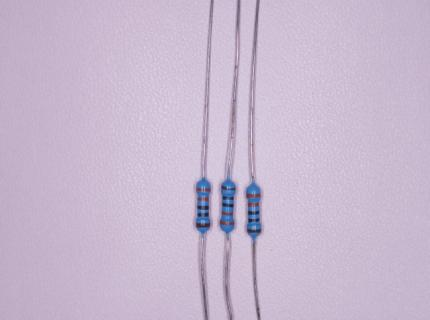Black band: (222, 202, 233, 208), (248, 211, 260, 216), (197, 212, 209, 217), (222, 196, 234, 200), (197, 206, 209, 210), (248, 218, 259, 222)
Brown band: (221, 185, 235, 191), (196, 222, 210, 227), (247, 228, 261, 233)
Orange band: (220, 220, 234, 226), (246, 193, 260, 198), (222, 210, 233, 216), (248, 202, 259, 207), (197, 197, 209, 201), (196, 188, 210, 191)
